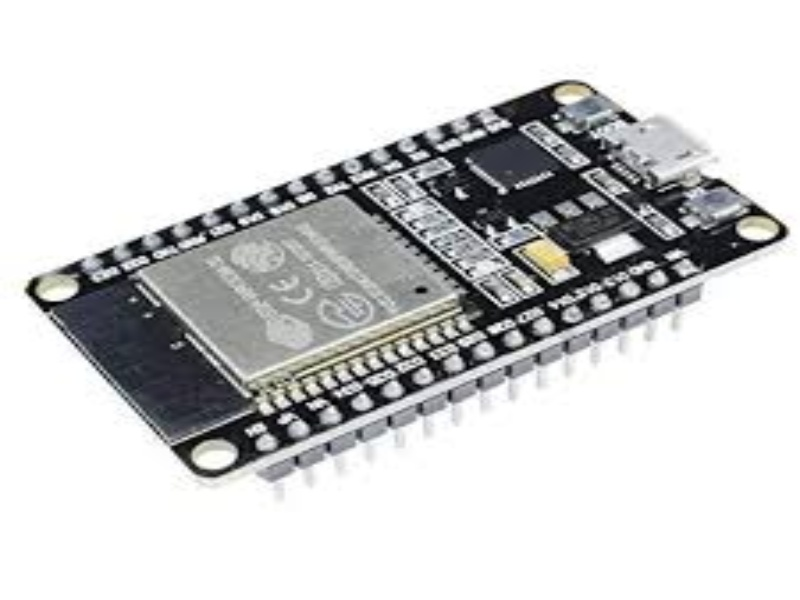esp32: (16, 53, 788, 436)
